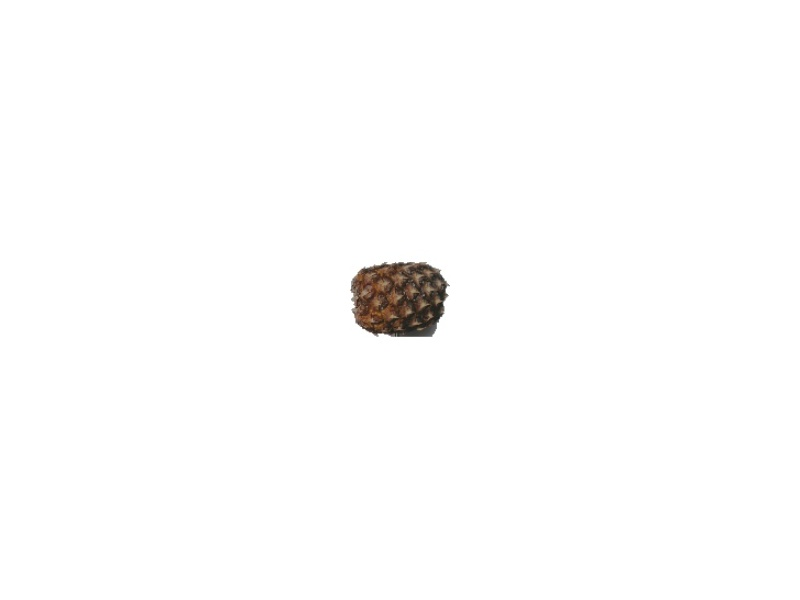abacaxi: (346, 259, 454, 340)
